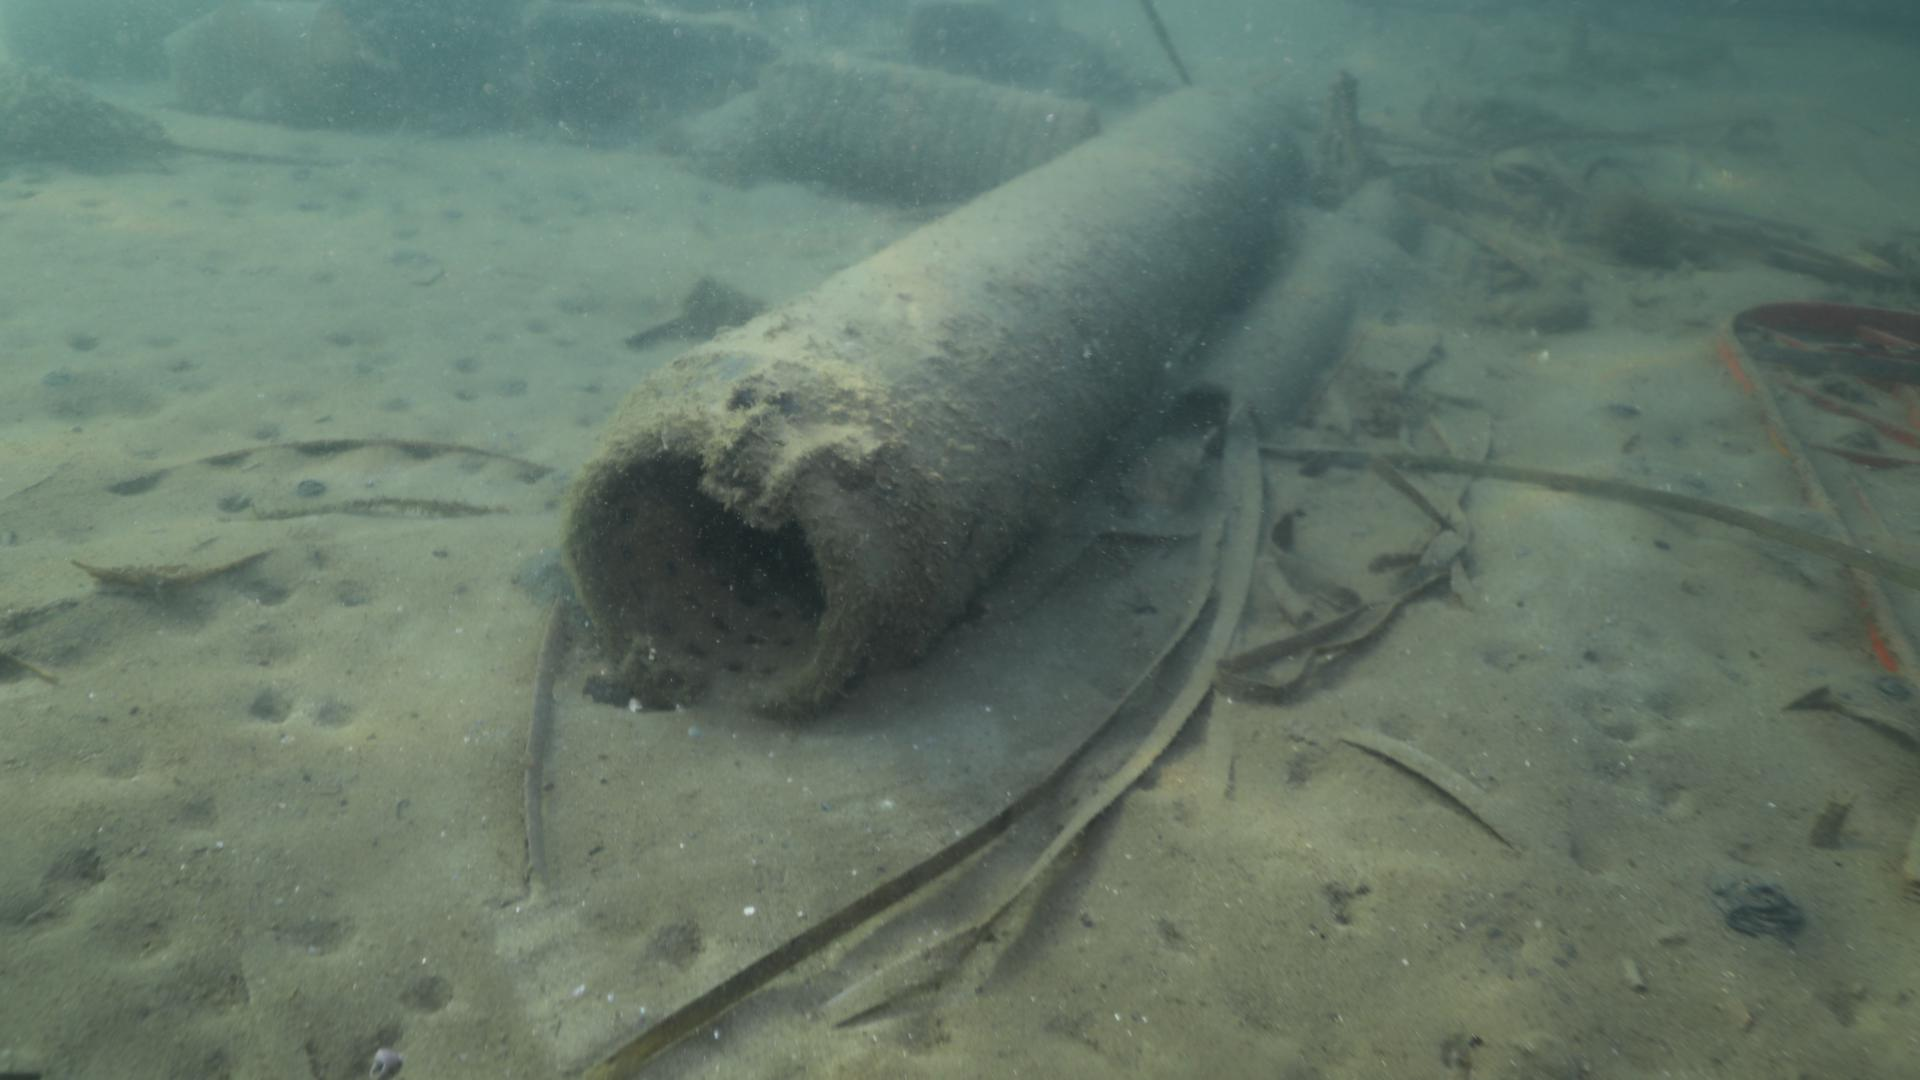eel fish trap: (556, 82, 1298, 721)
